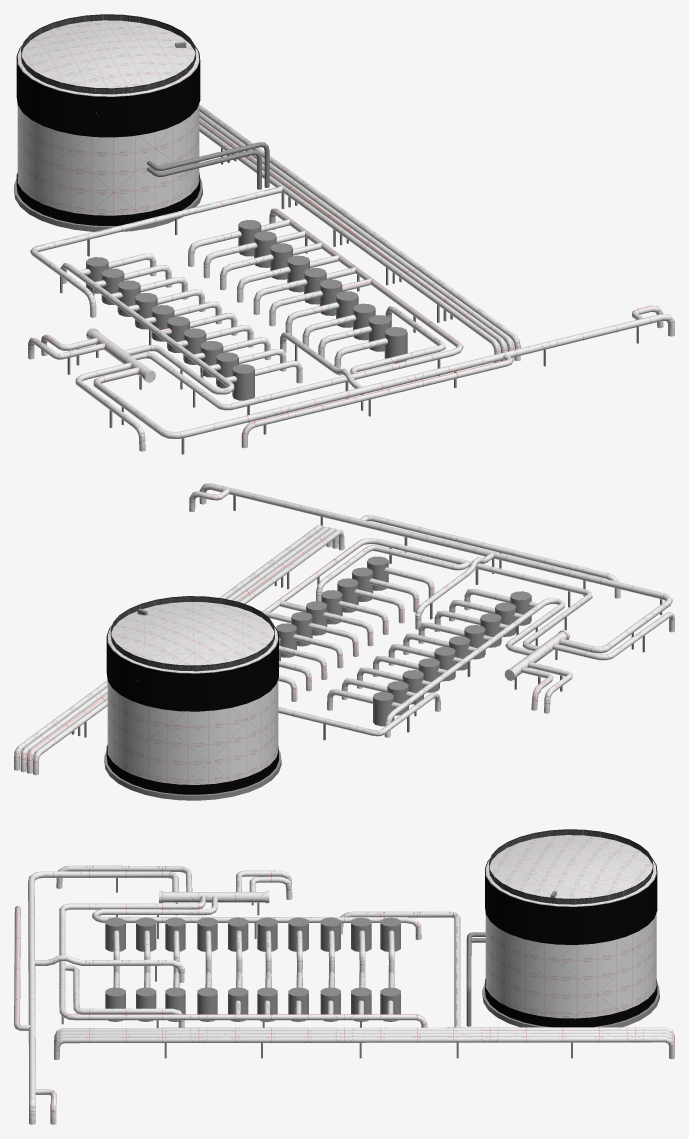
File: fuelsil_02_a.FBX
3 views of the same model, one above another, from view 1: azimuth 30°, elevation 25°; view 2: azimuth 150°, elevation 25°; view 3: azimuth 270°, elevation 25° (orthographic). The views are drawn at different scales.
Visible parts, largest first — view 1: fuelsystem; view 2: fuelsystem; view 3: fuelsystem.
Boxes of the visible parts, bbox=[...] form: fuelsystem: bbox=[14, 14, 674, 454]; fuelsystem: bbox=[14, 483, 674, 800]; fuelsystem: bbox=[14, 829, 674, 1124].
Bounding box in the file's own units: 77.59 × 20.53 × 90.8.
